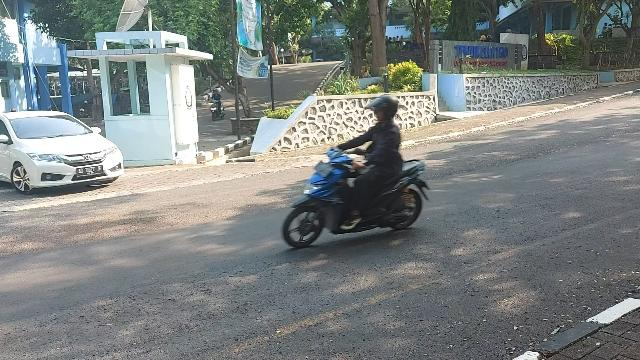helm: (366, 95, 399, 121)
motor: (283, 136, 432, 250)
